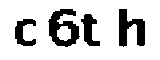6: (47, 5, 81, 51)
c: (11, 15, 39, 53)
h: (117, 6, 148, 53)
t: (80, 12, 104, 49)
